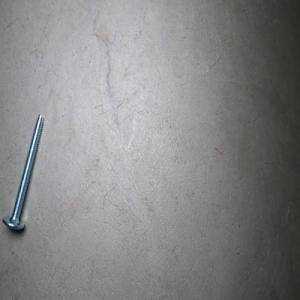Bolt: (1, 113, 44, 230)
